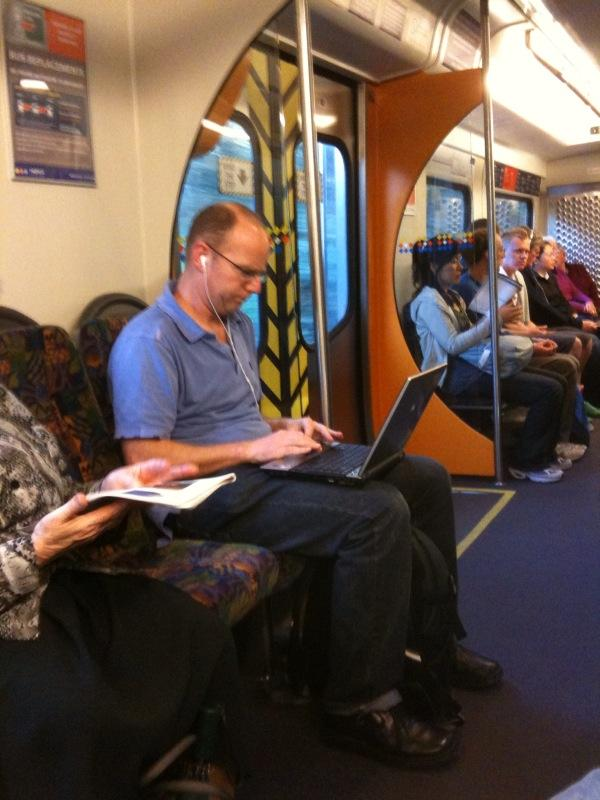person: (109, 203, 507, 769)
